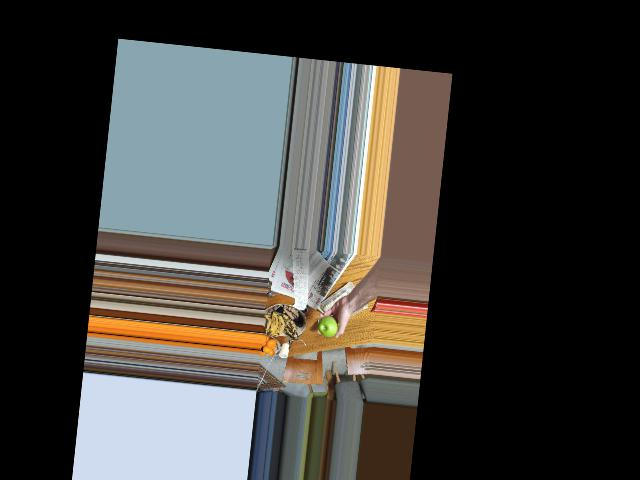apple: (317, 314, 339, 338)
